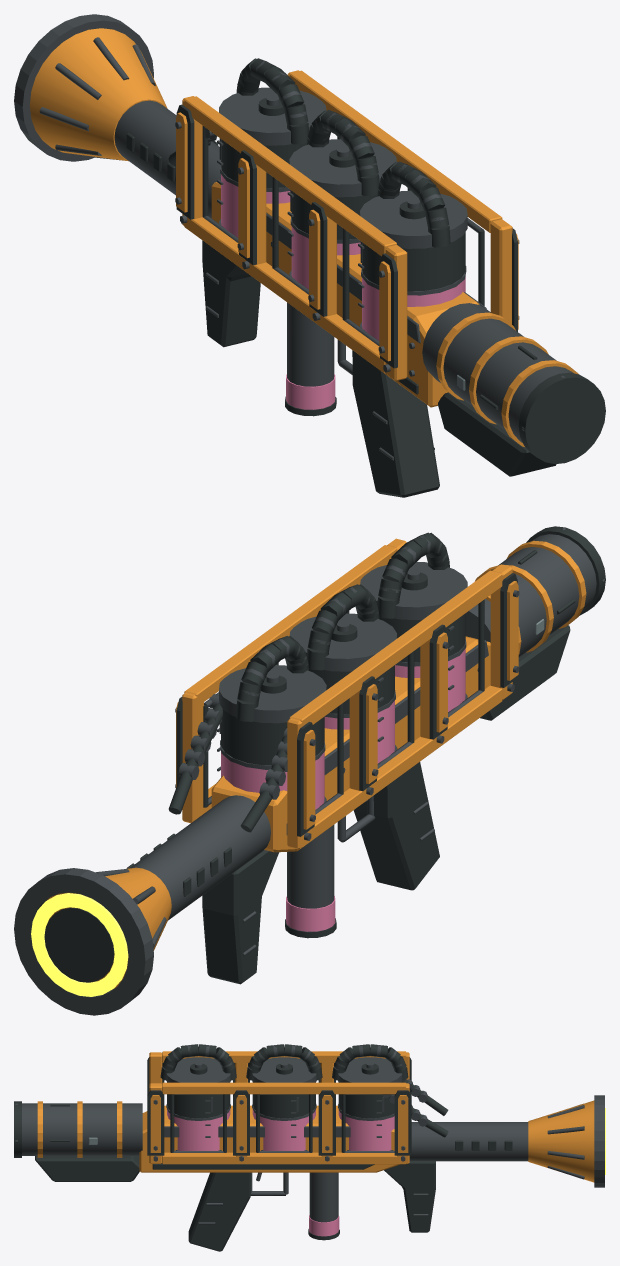
Rendered from sticky_0.glb.
3 renders of one model, top to bottom at view 1: azimuth 30°, elevation 25°; view 2: azimuth 150°, elevation 25°; view 3: azimuth 270°, elevation 25°, orthographic. The views are drawn at different scales.
Parts seen in each view (by area): view 1: Weapon_sticky_v1; view 2: Weapon_sticky_v1; view 3: Weapon_sticky_v1.
Boxes of the visible parts, x1,y1,x2,y2 form: Weapon_sticky_v1: (14, 14, 605, 497); Weapon_sticky_v1: (14, 526, 605, 1015); Weapon_sticky_v1: (14, 1044, 605, 1251).
Bounding box in the file's own units: 0.146 × 0.339 × 0.8975.
